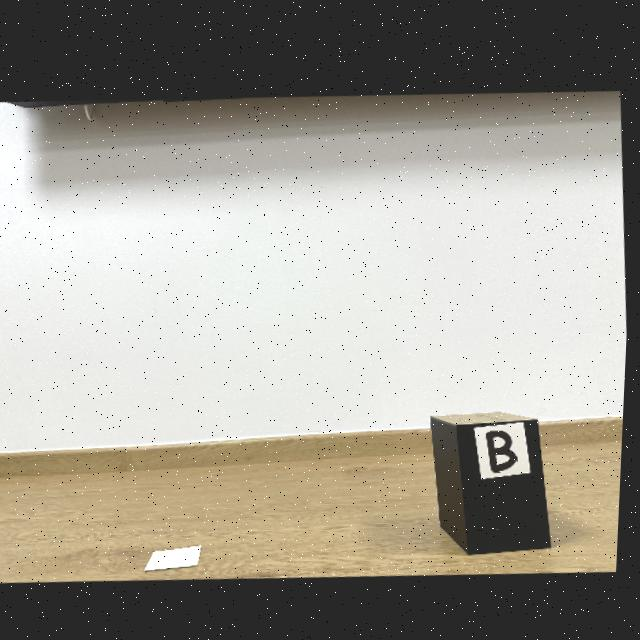B: (489, 425, 520, 466)
